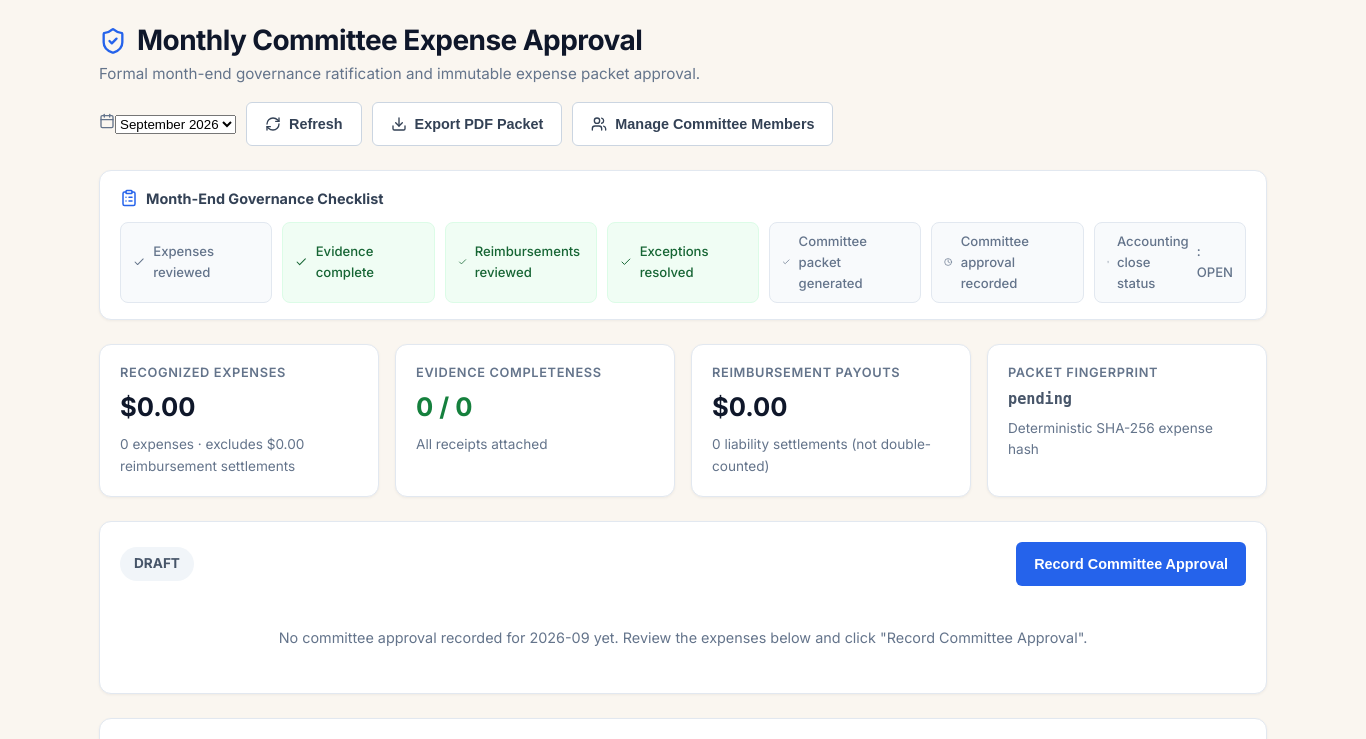
Test: MonthlyCommitteeApproval Page › enables recording approval for Admin and opens modal
Click the button "Record Committee Approval": (1131, 564) [1016,542,1246,586]
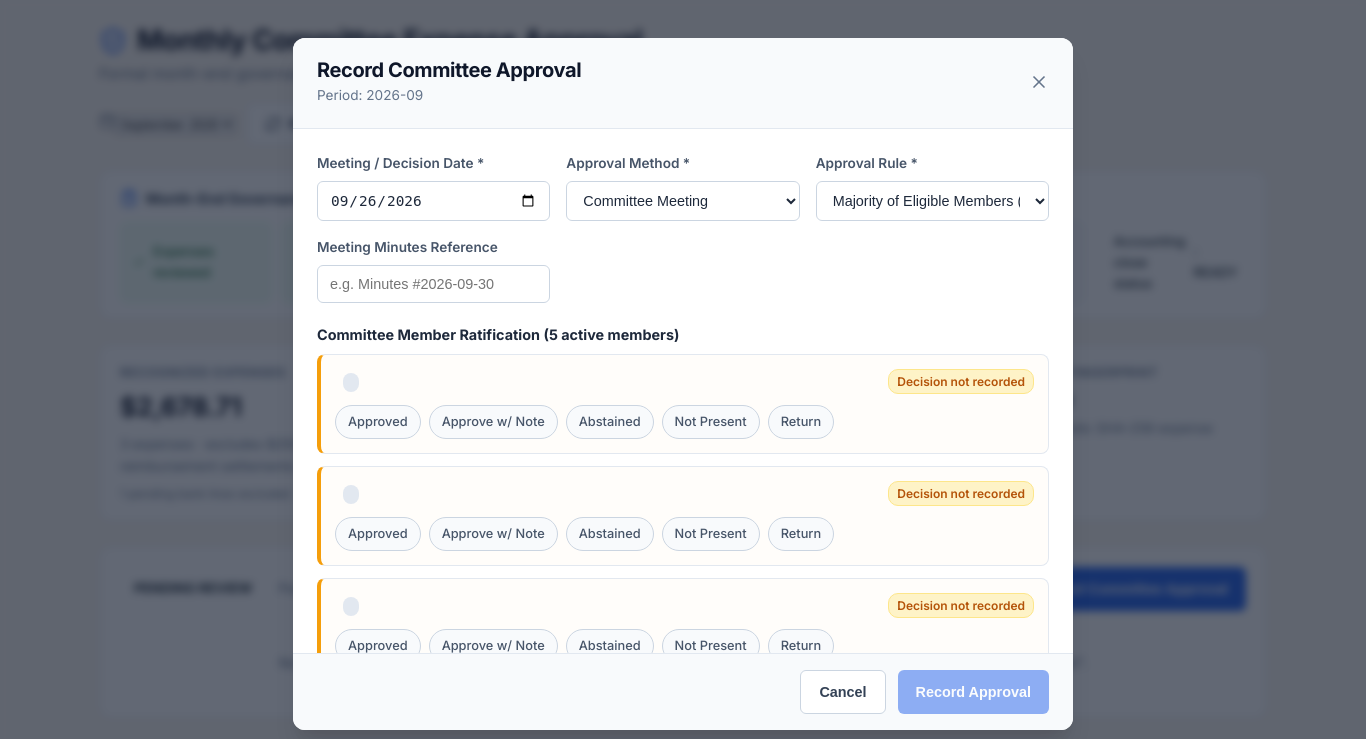
Expected: the heading "Record Committee Approval" is shown, [317,58,581,82]
